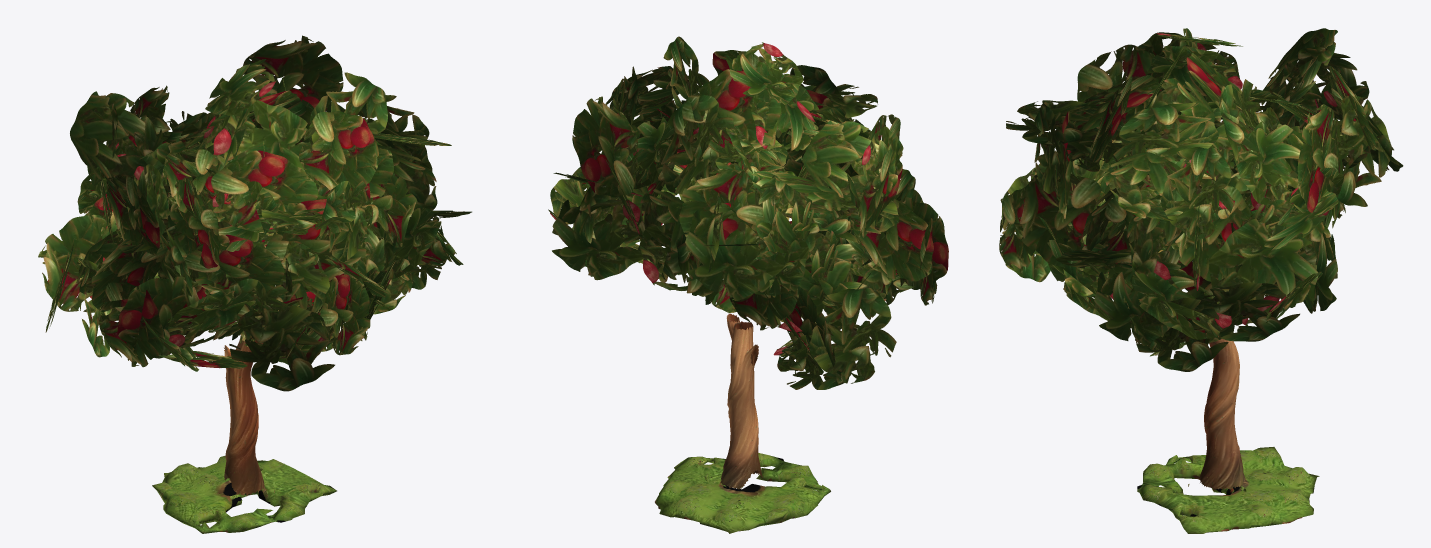
File: Pomegranate_Tree_2.fbx
The picture shows the model from 3 angles, left to right: view 1: azimuth 30°, elevation 25°; view 2: azimuth 150°, elevation 25°; view 3: azimuth 270°, elevation 25°; orthographic projection. The views are drawn at different scales.
Visible parts, largest first — view 1: Pomegranate_Tree_2_LOD0; view 2: Pomegranate_Tree_2_LOD0; view 3: Pomegranate_Tree_2_LOD0.
Boxes of the visible parts, bbox=[...] form: Pomegranate_Tree_2_LOD0: bbox=[38, 35, 471, 533]; Pomegranate_Tree_2_LOD0: bbox=[548, 36, 948, 533]; Pomegranate_Tree_2_LOD0: bbox=[999, 28, 1403, 533].
Size of what is drawn, in the model's own units: 1.71 by 1.86 by 1.52.
2 materials, 2 textured.
